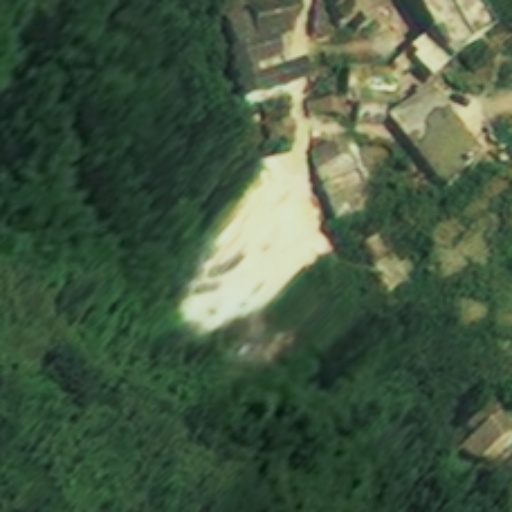landslide: (178, 151, 331, 331)
